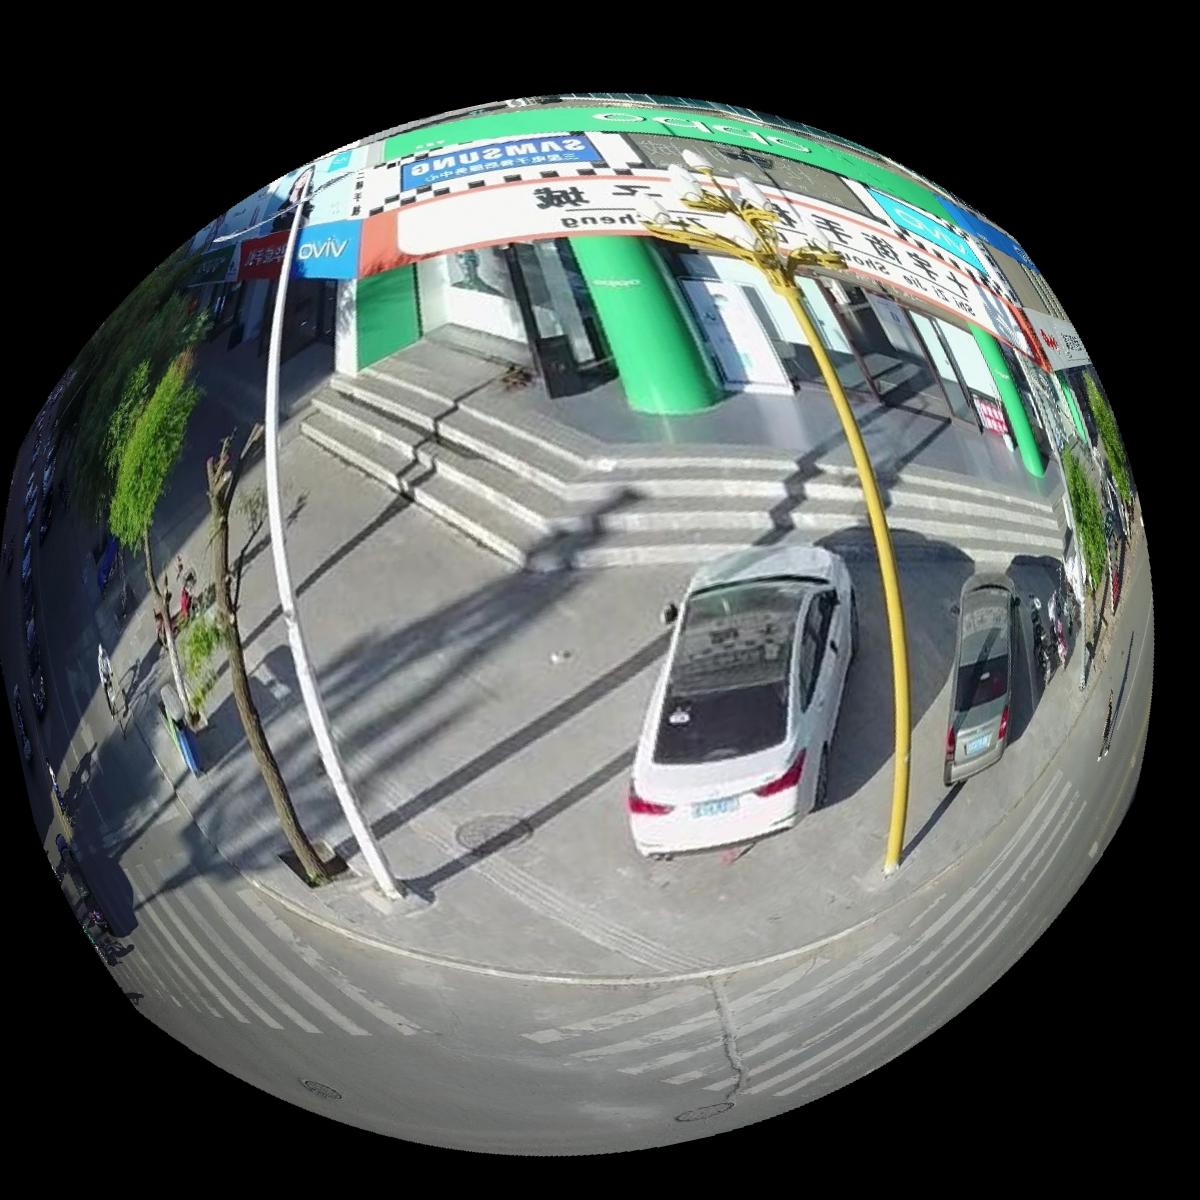building: (225, 96, 1090, 477)
cars: (625, 544, 858, 856), (945, 575, 1020, 784)
trees: (177, 423, 327, 886), (46, 248, 209, 500), (103, 345, 200, 701), (1081, 370, 1135, 508), (1062, 445, 1110, 593)
